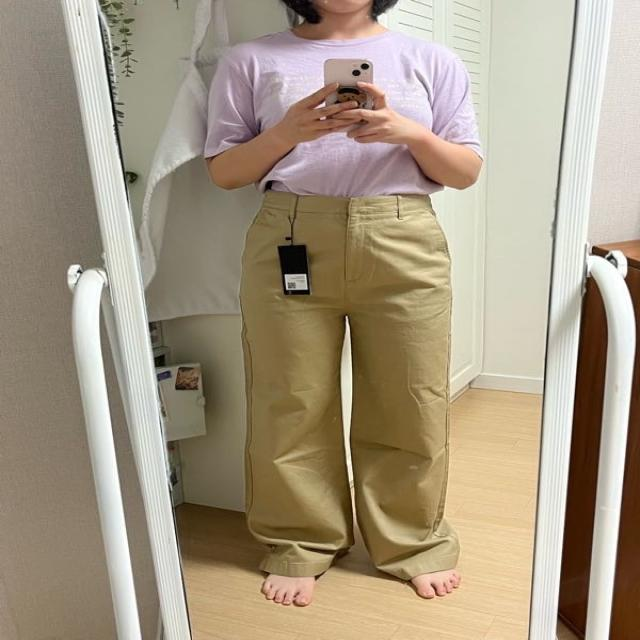cottonpants: (235, 189, 456, 584)
shortsleeve: (202, 20, 488, 192)
